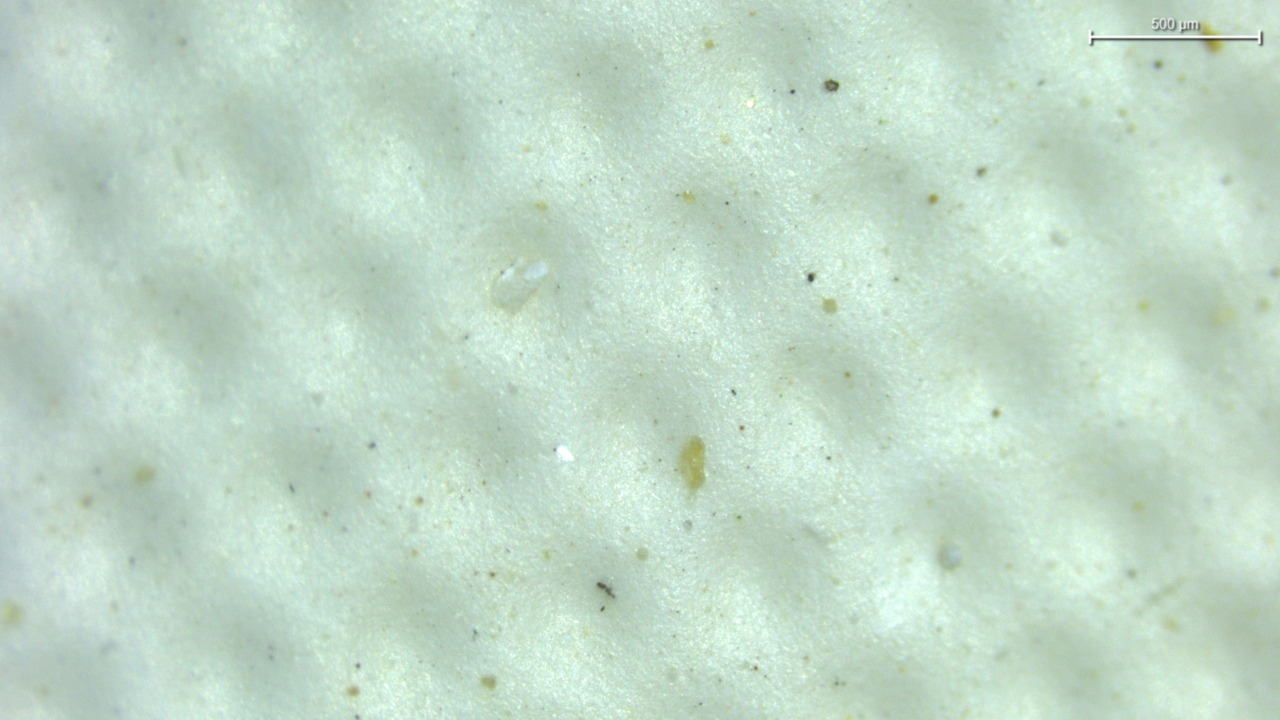microplastic_fragment: (491, 257, 549, 311)
